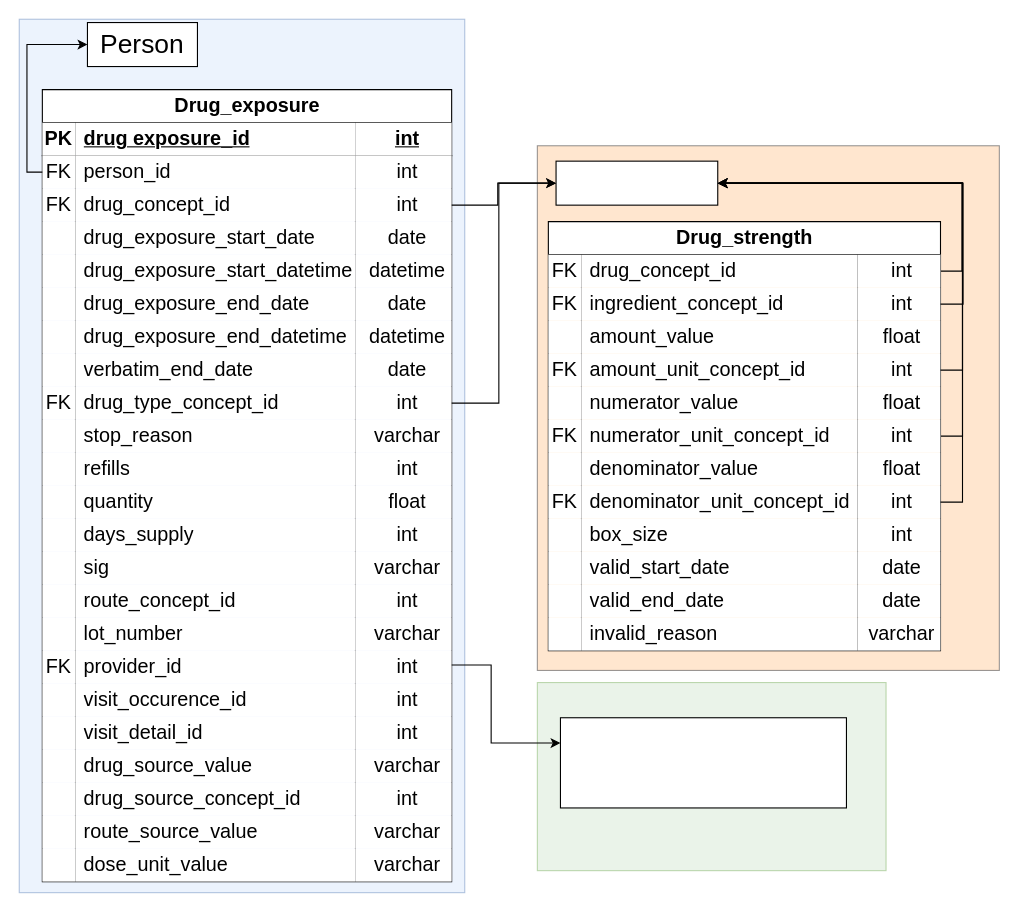
Some shapes in this 1019 by 912 pixel diagram are drawn without their labels. The centre of each missing label's shape, as x and y in pixels:
"Standardised Health System" belongs at [702,762].
"Vocabularies" belongs at [636,182].
